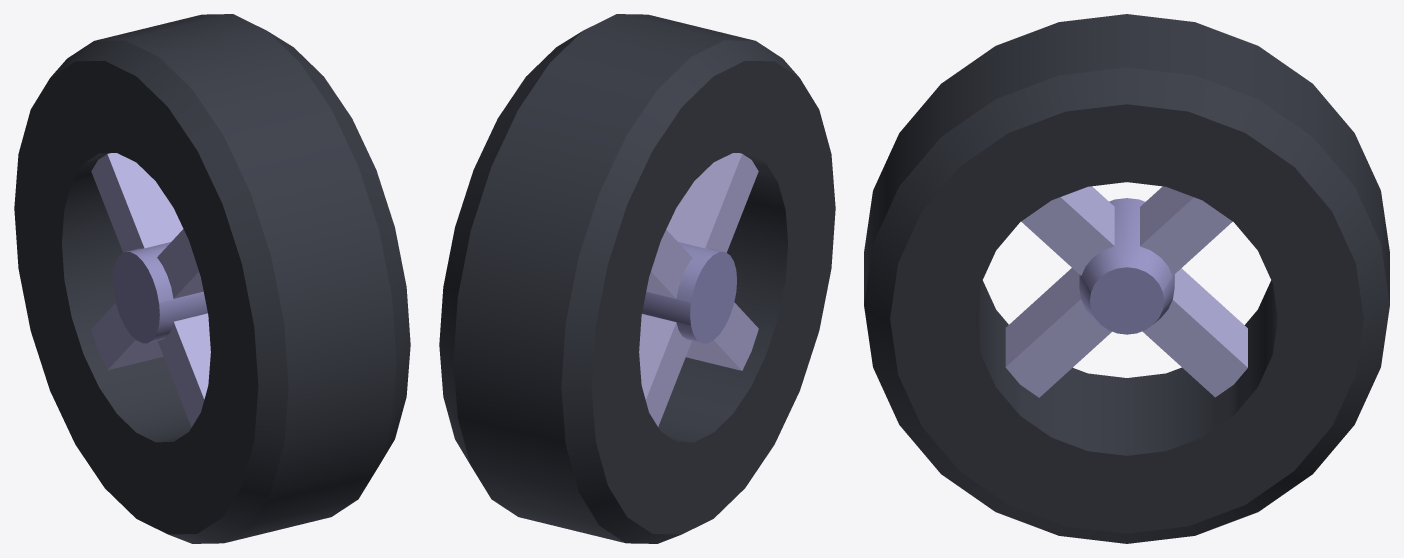
The model's file is wheel.glb.
The picture shows the model from 3 angles, left to right: view 1: azimuth 30°, elevation 25°; view 2: azimuth 150°, elevation 25°; view 3: azimuth 270°, elevation 25°; orthographic projection.
Parts seen in each view (by area): view 1: mergedBlocks(Clone); view 2: mergedBlocks(Clone); view 3: mergedBlocks(Clone).
Part boxes in pixels (x1,y1,x2,y2): mergedBlocks(Clone): (14,14,410,543); mergedBlocks(Clone): (439,14,835,543); mergedBlocks(Clone): (864,14,1389,543).
Bounding box in the file's own units: 0.2156 × 0.6161 × 0.6161.
